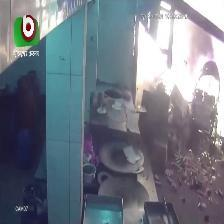fire: (137, 10, 200, 116), (184, 1, 224, 140)
